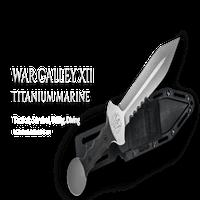knife: (64, 32, 179, 194)
